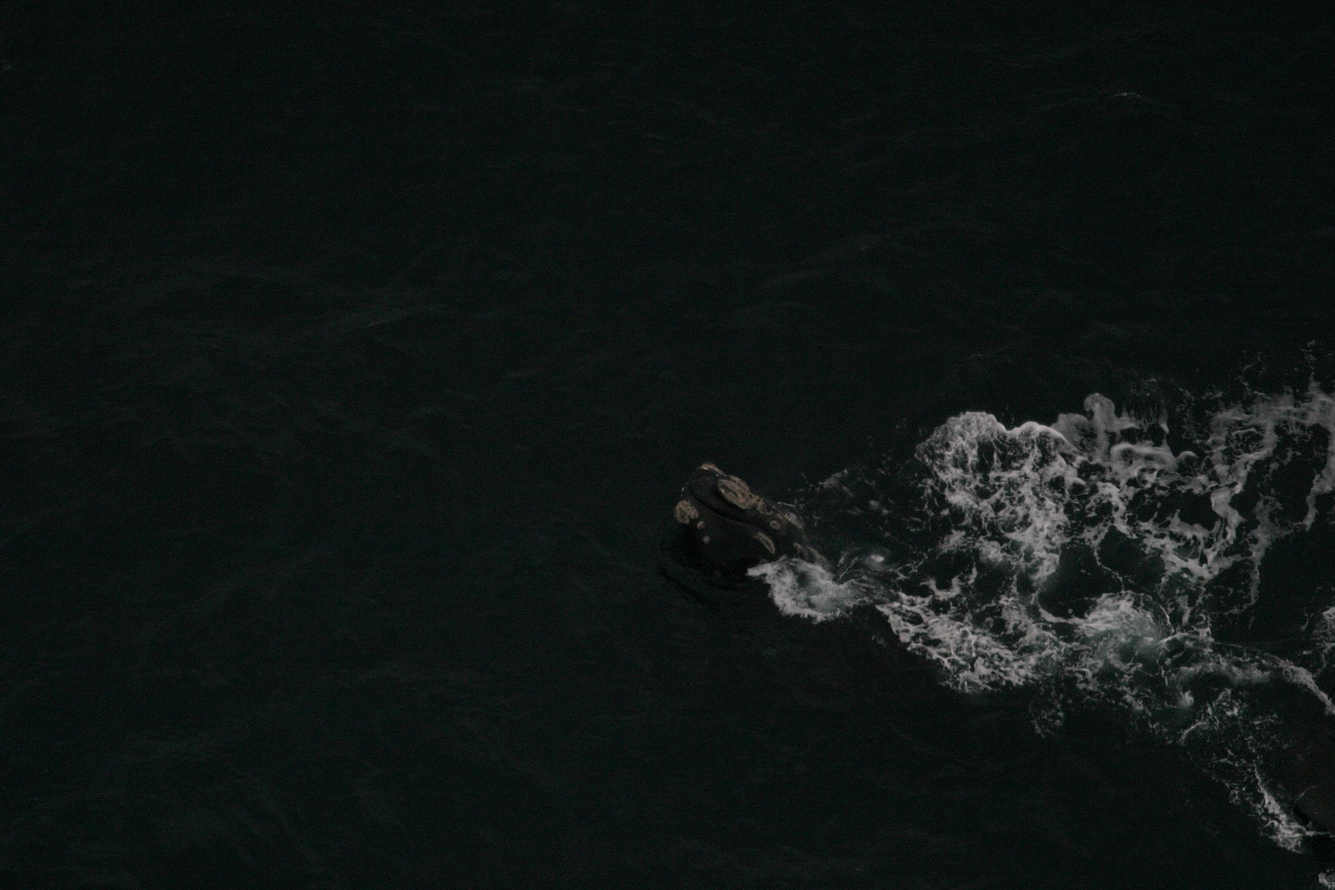whale: (650, 457, 897, 640)
